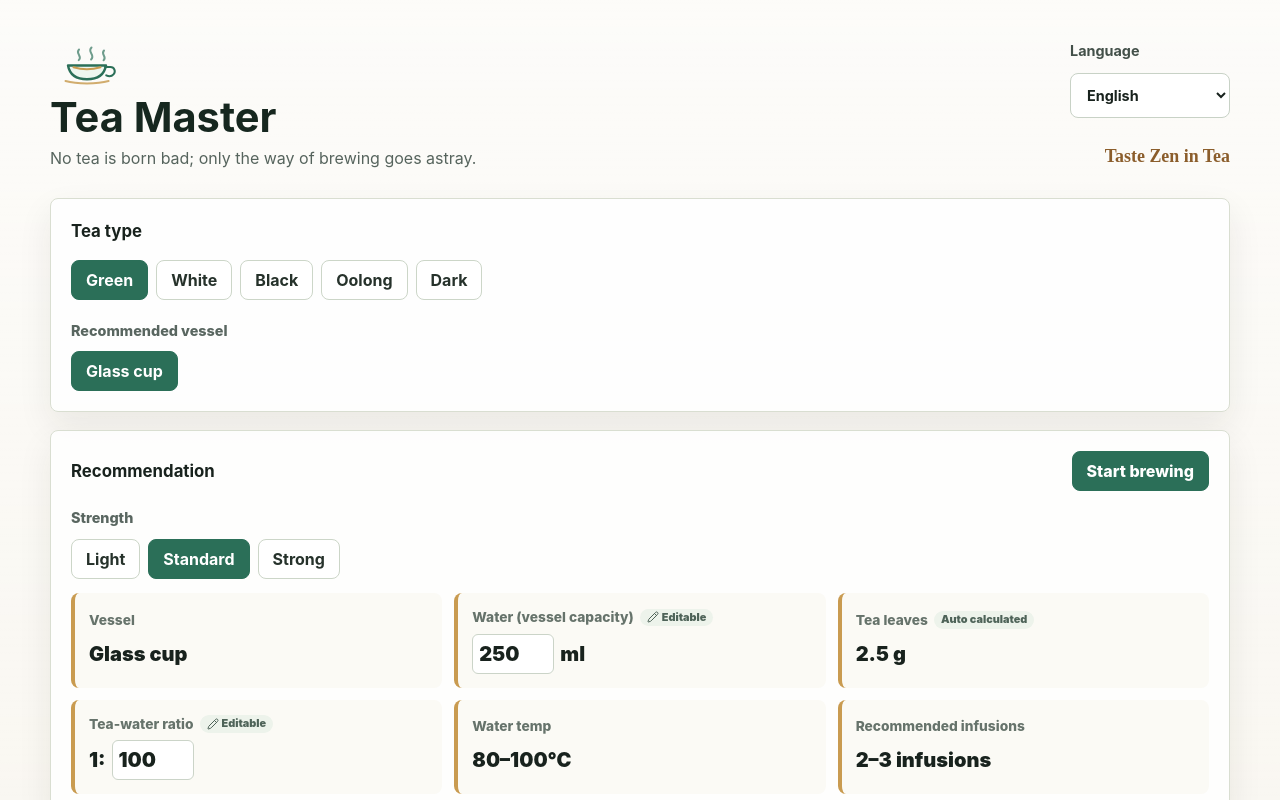
Tea Master app › lets users edit water amount and recalculates tea leaves from the ratio
Select "中文" in the dropdown labelled "Language" at coordinates (1150, 96), box [1070, 73, 1230, 118]
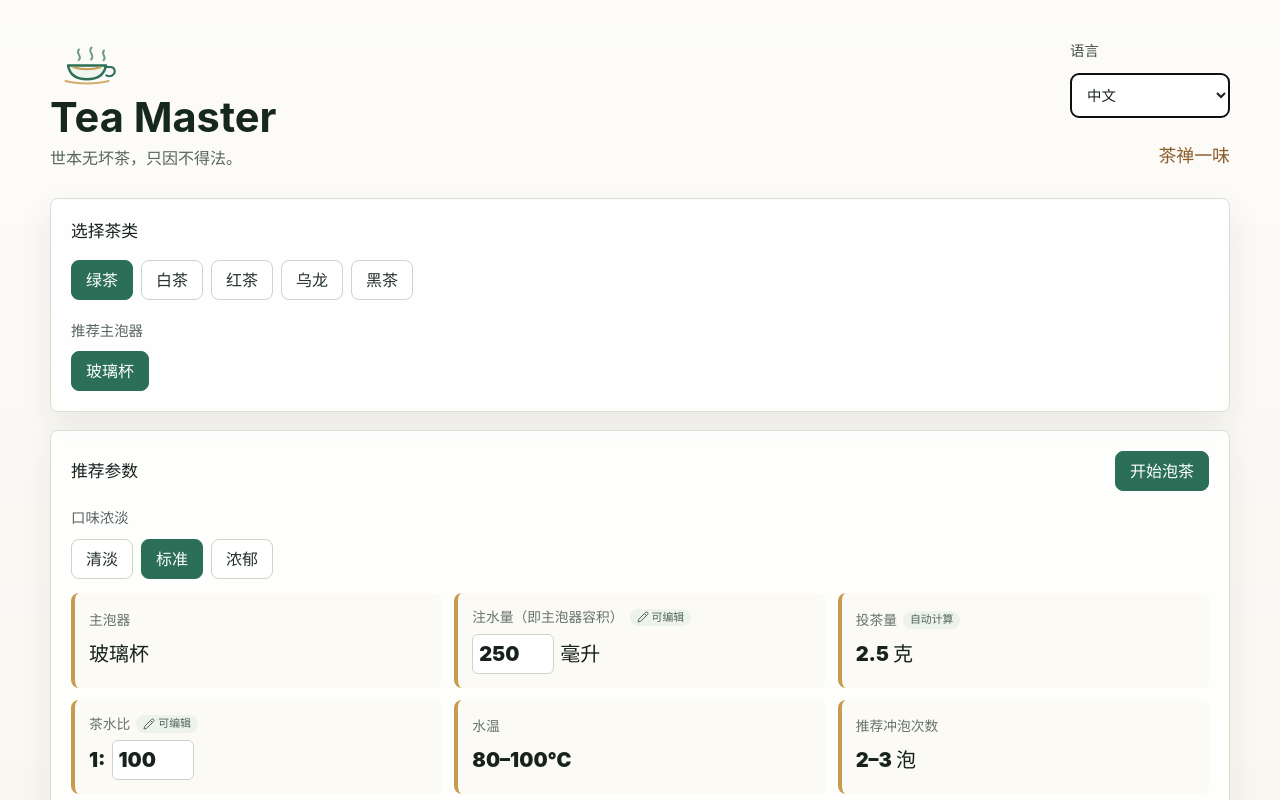
Click the tab "白茶".
click(172, 280)  # box [141, 260, 203, 300]
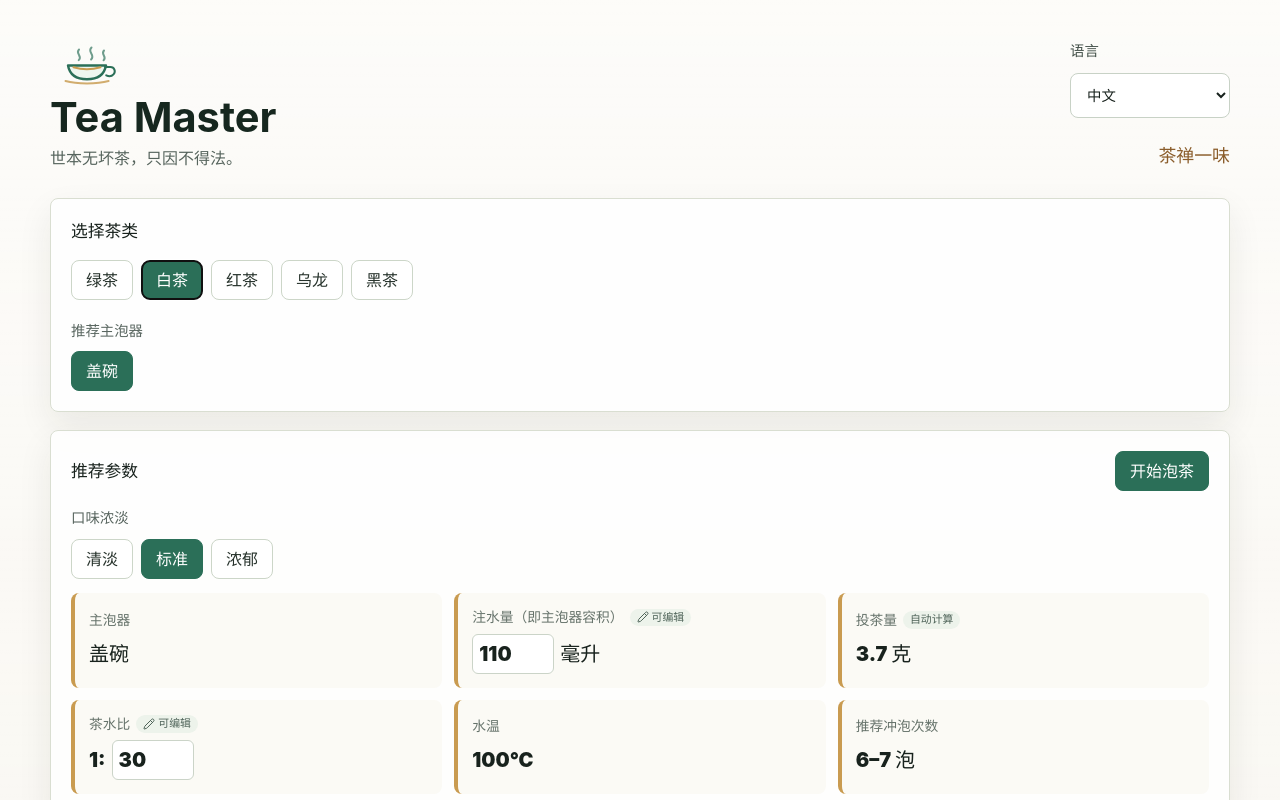
Now the text "注水量（即主泡器容积）" is shown, box [472, 609, 624, 625]
Replace the text in the number field labelled "注水量（即主泡器容积） 可编辑" with "600" at coordinates (513, 654), box [472, 634, 554, 674]
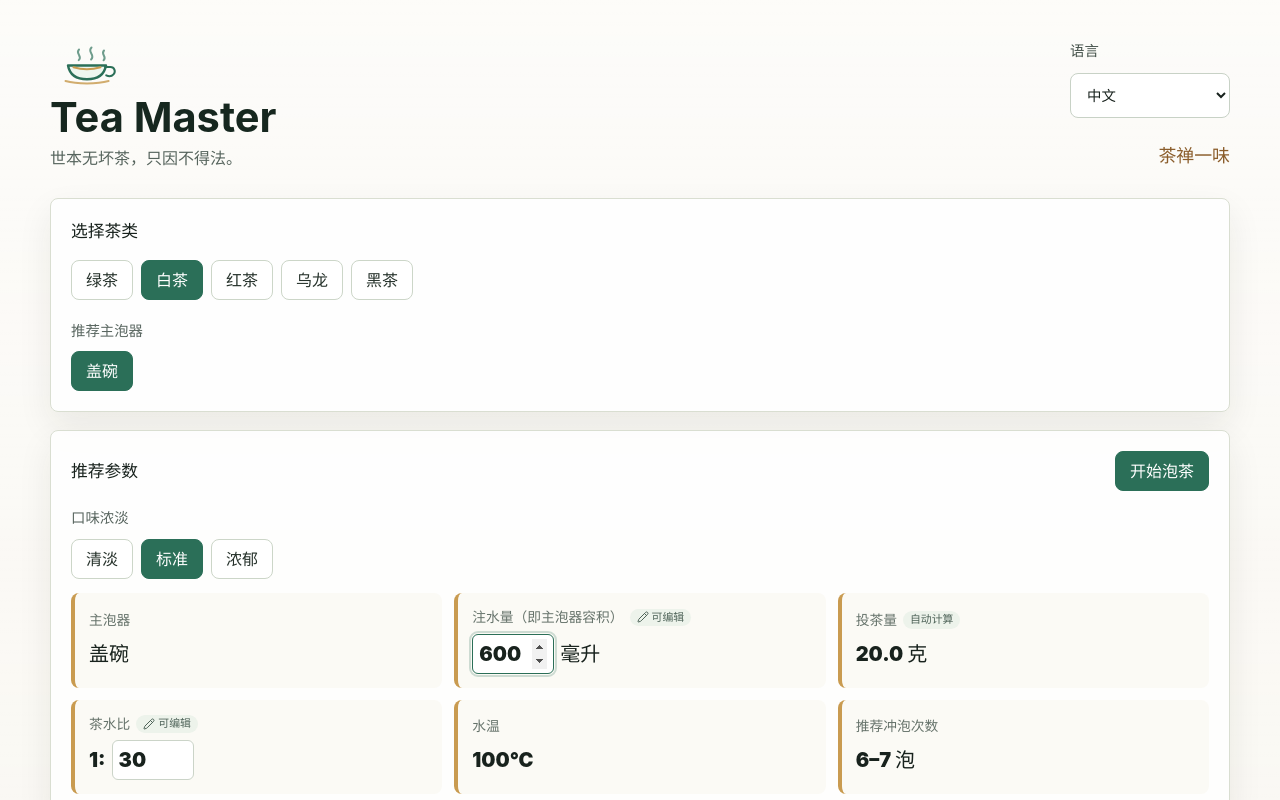
Now the text with test id "tea-amount" reads "20.0 克", box [856, 642, 927, 666]
